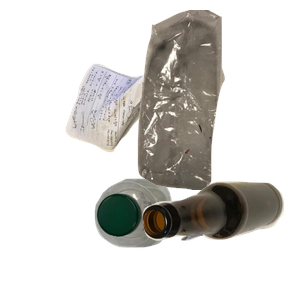glass: (140, 179, 300, 300)
paper: (63, 61, 242, 206)
plastic: (92, 176, 257, 300)
trash: (114, 10, 300, 190)
